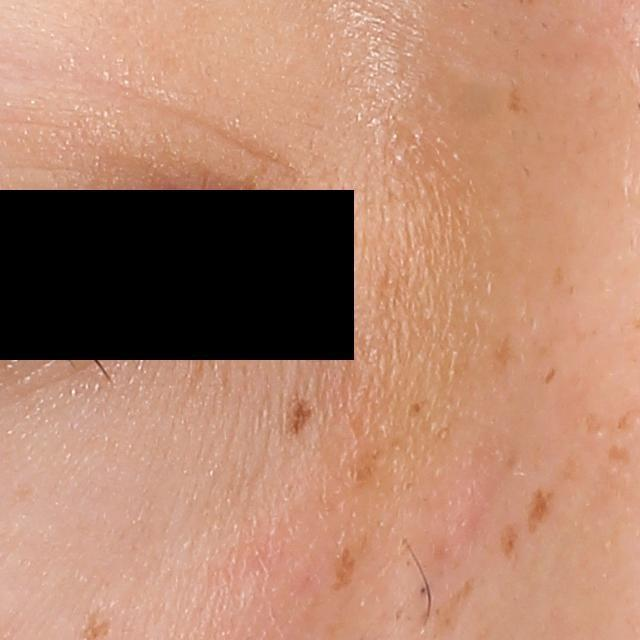melasma: (350, 444, 392, 487), (501, 513, 525, 562), (328, 547, 356, 587), (529, 489, 551, 536), (492, 330, 518, 369), (604, 443, 636, 469), (500, 80, 522, 117), (582, 409, 606, 441), (403, 397, 433, 421), (548, 265, 566, 294), (544, 364, 558, 387)
